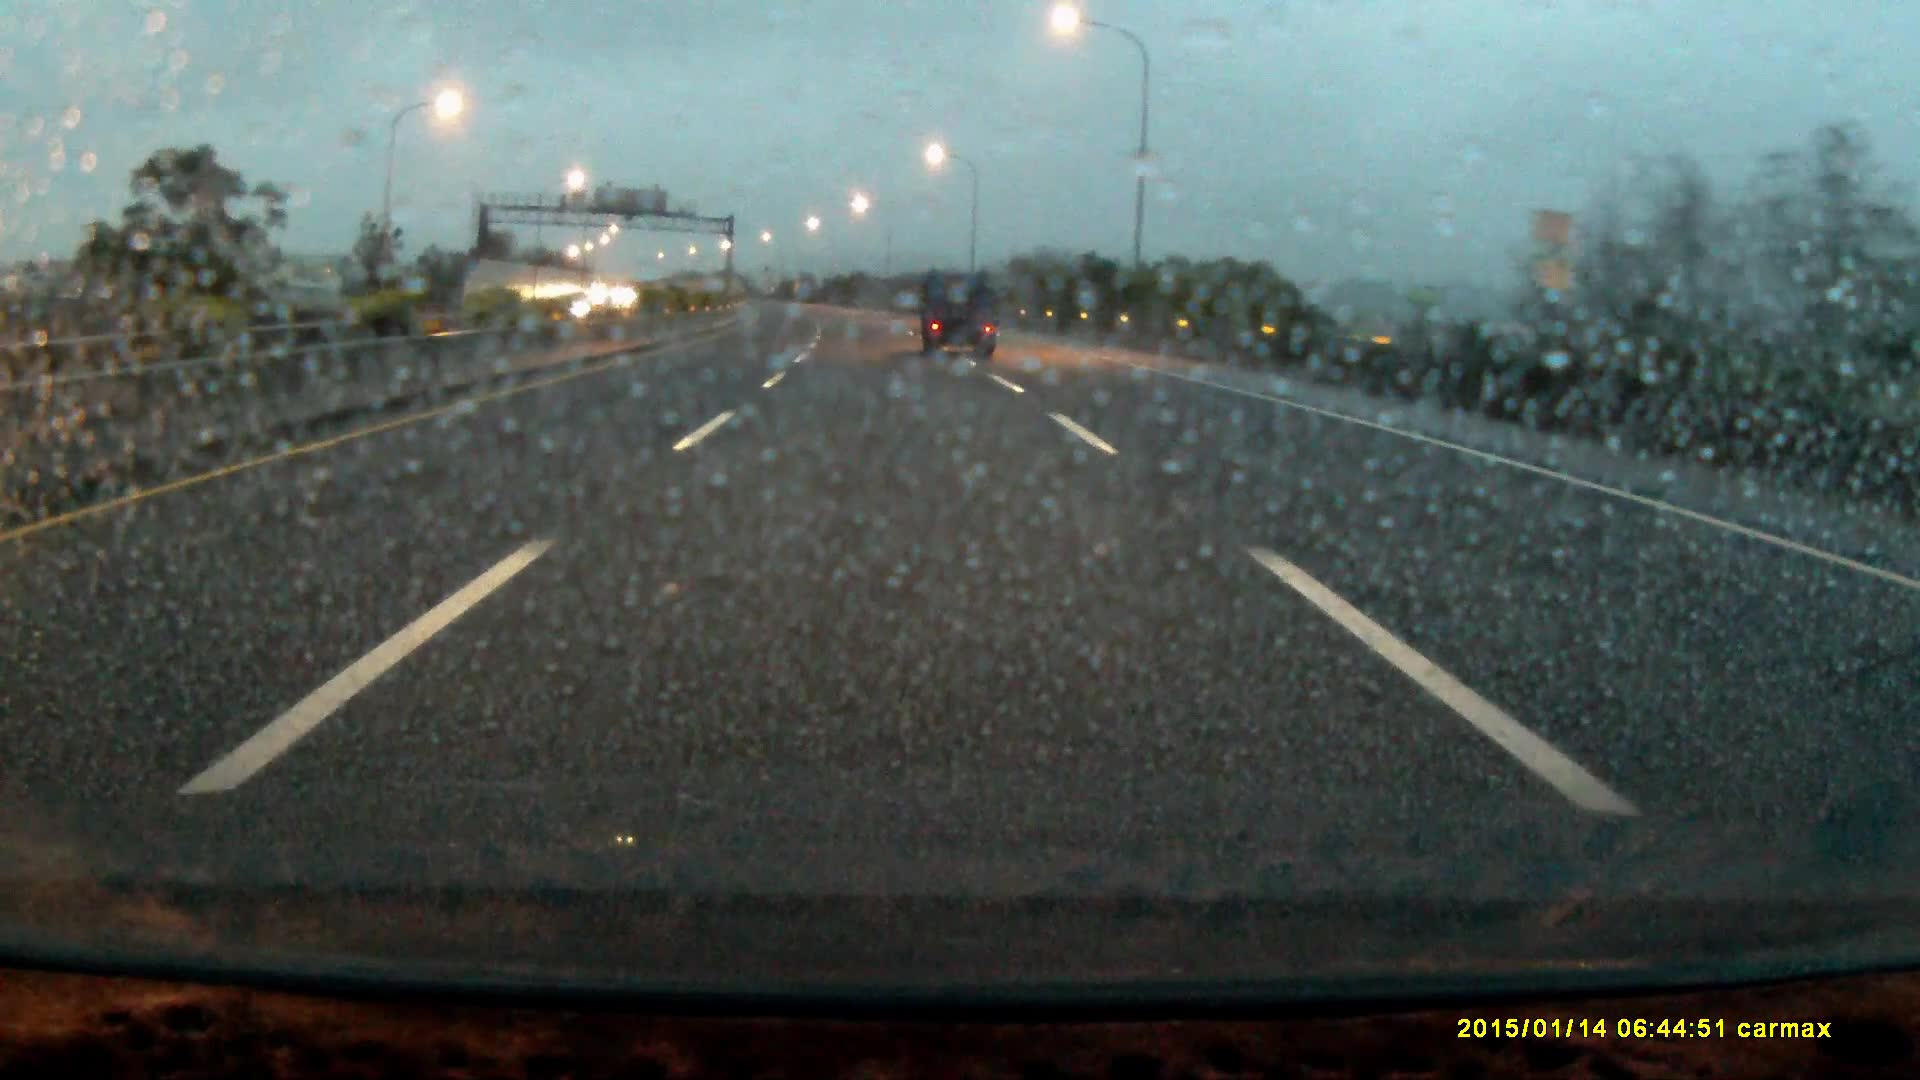vehicle: (920, 272, 1002, 356)
